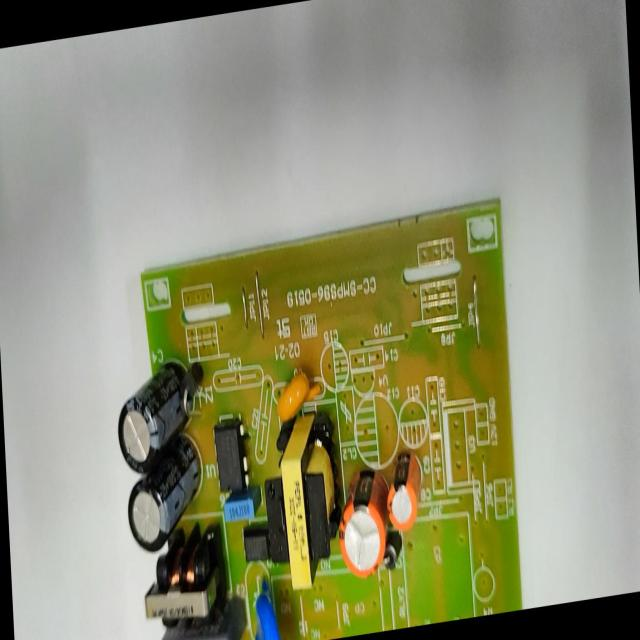Cap1: (334, 452, 388, 585)
Cap2: (383, 444, 424, 536)
Cap3: (125, 463, 203, 557)
Cap4: (116, 356, 194, 479)
MOSFET: (209, 416, 253, 498)
Mov: (248, 572, 287, 640)
Transformer: (136, 544, 227, 632)
